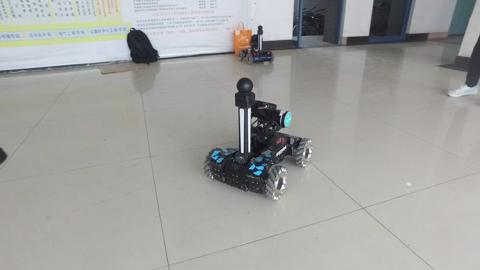bag: (125, 25, 162, 67), (231, 19, 253, 56)
chariot: (202, 76, 313, 202), (237, 24, 274, 65)
